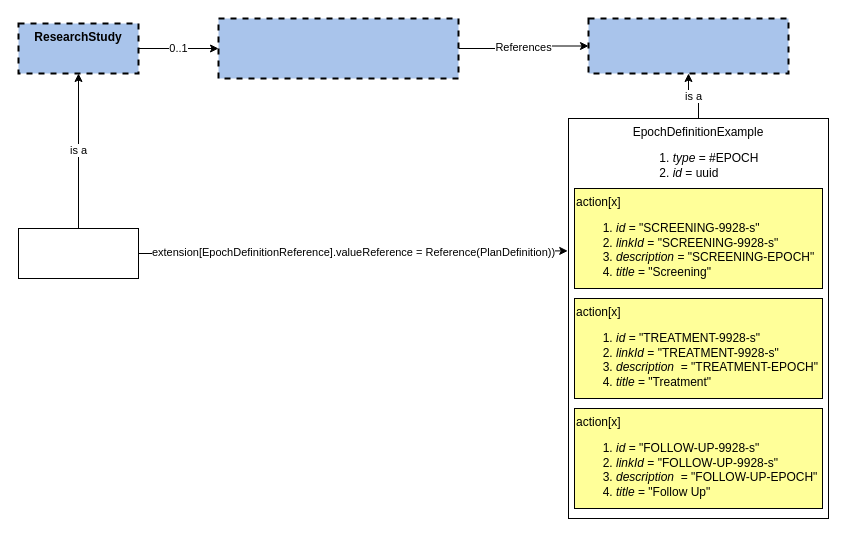
The diagram is 846 pixels wide and 536 high, and some of its shapes have lost their labels. Here are the shapes that lost their labels. From the top down, the centre of each, then its label:
At (x=338, y=48): "Extension EpochDefinitionReference value[x] only Reference(EpochDefinition)".
At (x=688, y=45): "Profile: EpochDefinition Parent: PlanDefinition".
At (x=78, y=253): "TheResearchStudy <ResearchStudy>".
